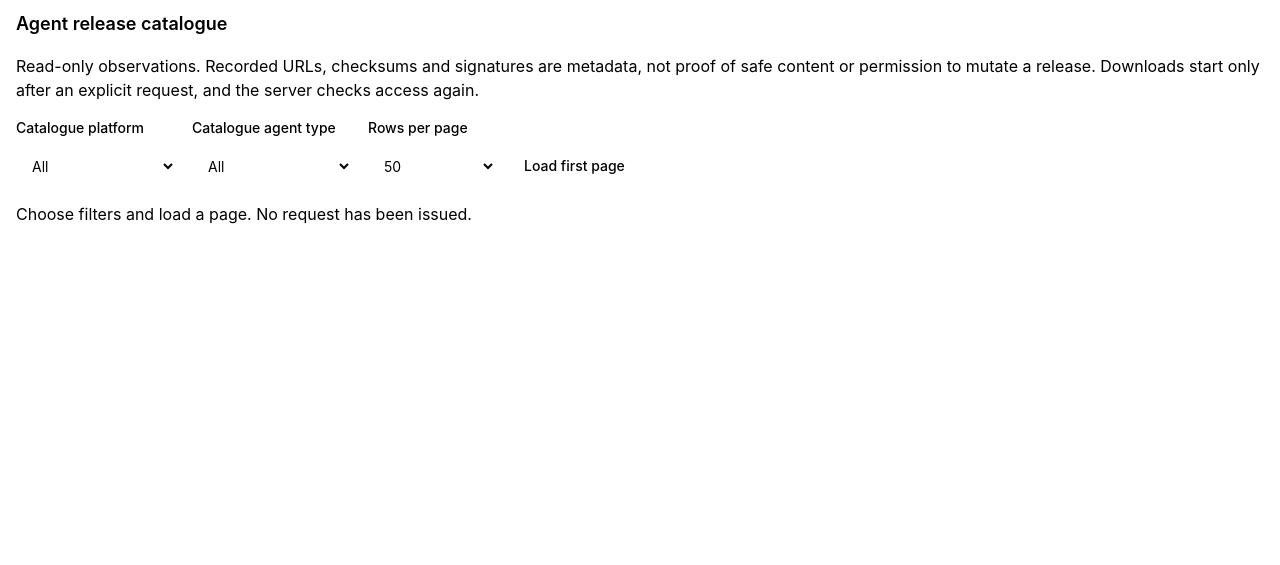
Test: requests verified server bytes only on a deliberate download click, never the stored URL
This screenshot has width=1280, height=565.
Click the button "Load first page" at (574, 166), box [512,146,637,186]
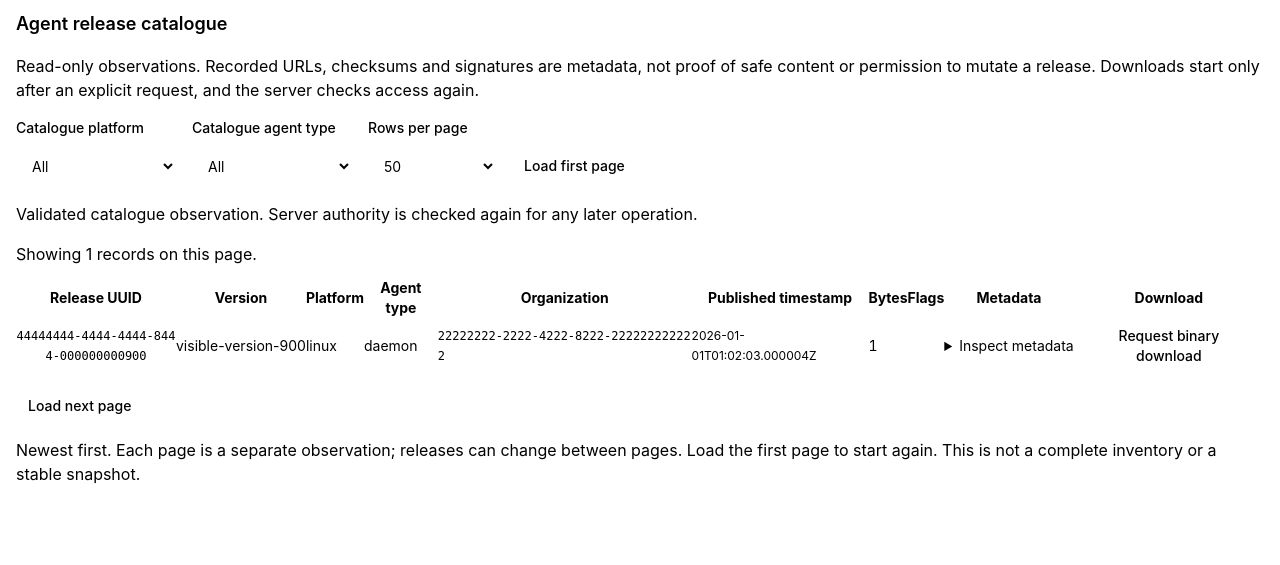
Check: the text "visible-version-900" is shown, box [176,318,306,374]
Click the button "Request binary download" at (1169, 346), box [1074,318,1264,374]
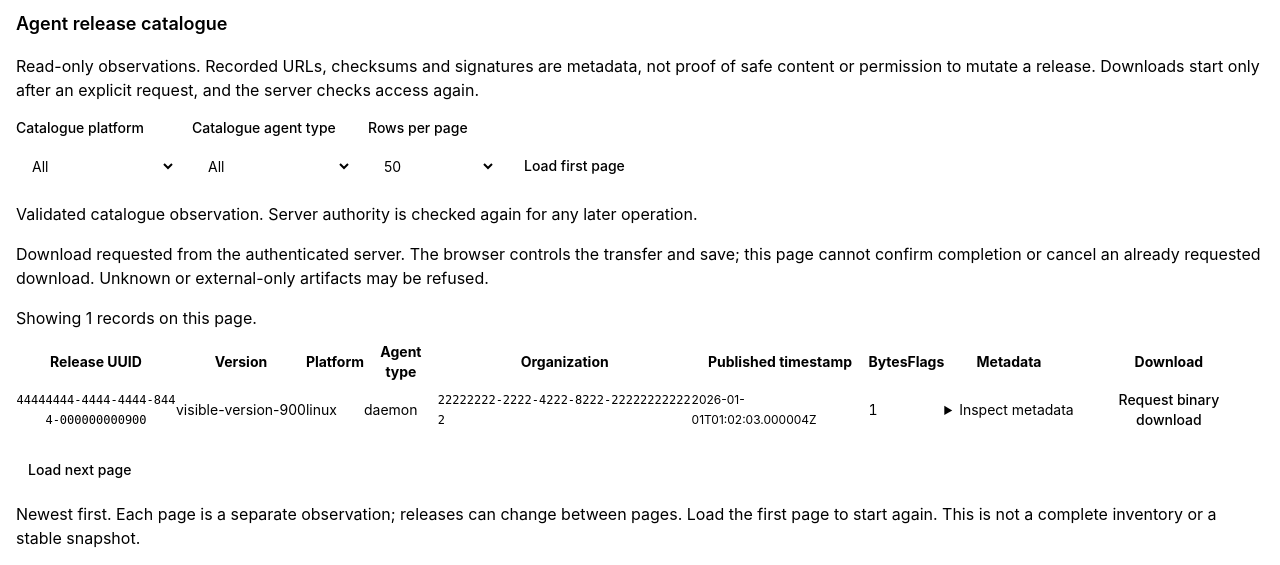
Check: the text "Download requested from the authenticated server. The browser controls the transfer and save; this page cannot confirm c" is shown, box [16,244,1260,288]
